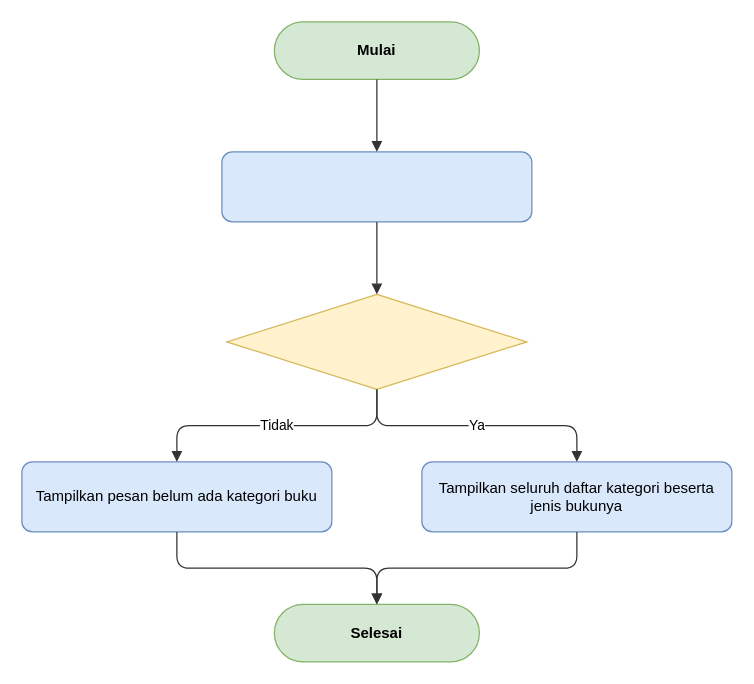
This 754x684 diagram has some shape labels left out. Here are the shapes that lost their labels. From the top down, the box of each, then its label:
(221, 151, 532, 222): Buka halaman daftar kategori buku
(226, 293, 527, 389): Apakah daftar kategori buku sudah tersedia?
